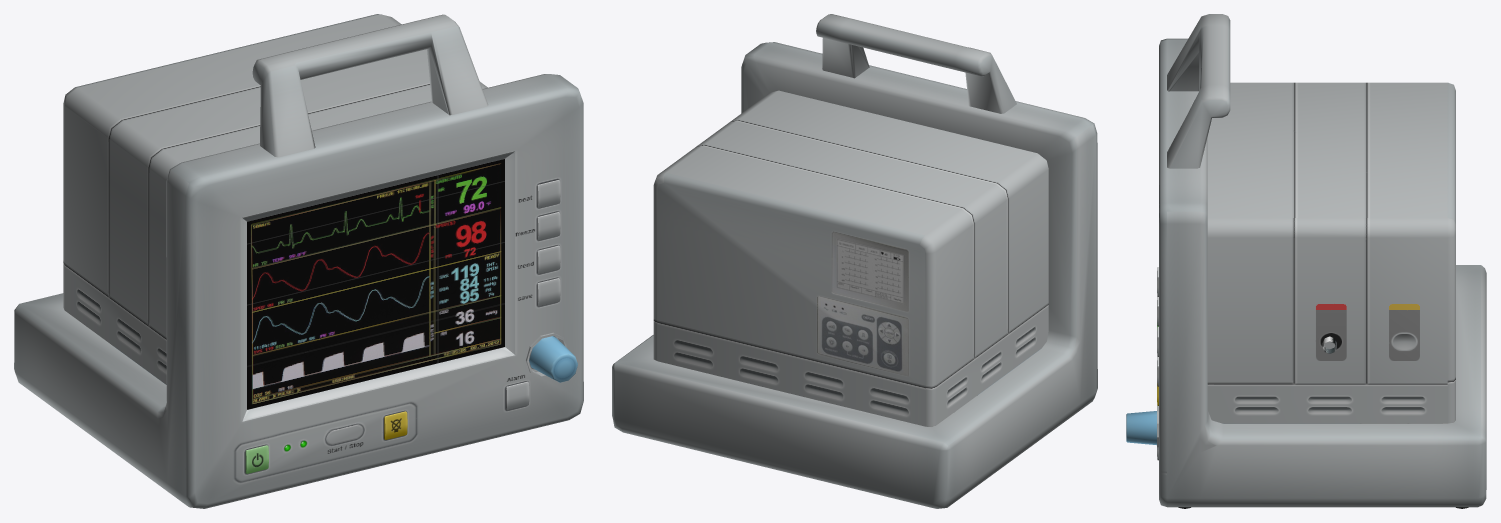
Rendered from Mac-Scope-cardiaque-on_01.FBX.
3 renders of one model, left to right at view 1: azimuth 30°, elevation 25°; view 2: azimuth 150°, elevation 25°; view 3: azimuth 270°, elevation 25°, orthographic. The views are drawn at different scales.
Visible parts, largest first — view 1: Mac-Scope-cardiaque-on_01; view 2: Mac-Scope-cardiaque-on_01; view 3: Mac-Scope-cardiaque-on_01.
Part boxes in pixels (x1,y1,x2,y2): Mac-Scope-cardiaque-on_01: (14,14,583,508); Mac-Scope-cardiaque-on_01: (612,14,1097,508); Mac-Scope-cardiaque-on_01: (1126,14,1486,508).
Bounding box in the file's own units: 40 × 34.55 × 39.42.
2 materials, 2 textured.
